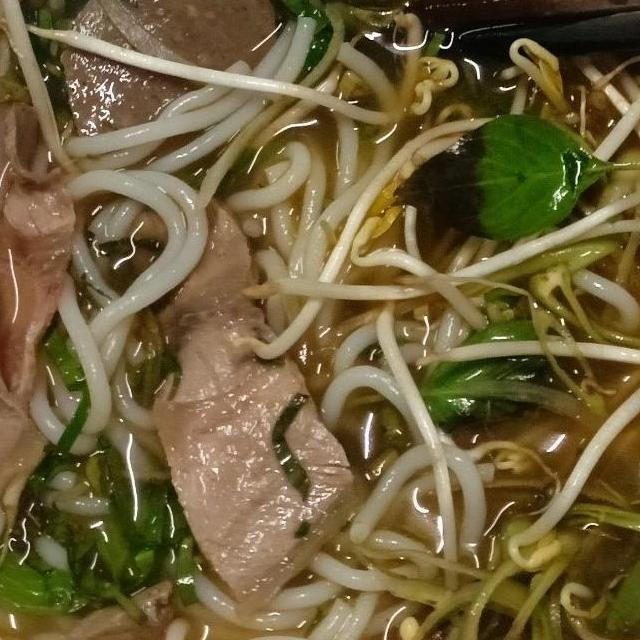bun: (9, 156, 220, 462), (31, 1, 324, 213), (220, 84, 422, 374), (308, 311, 502, 588), (0, 411, 234, 640), (172, 539, 483, 640)
bun bo: (0, 0, 640, 640)
thit bo: (114, 179, 373, 632), (0, 82, 100, 534)
